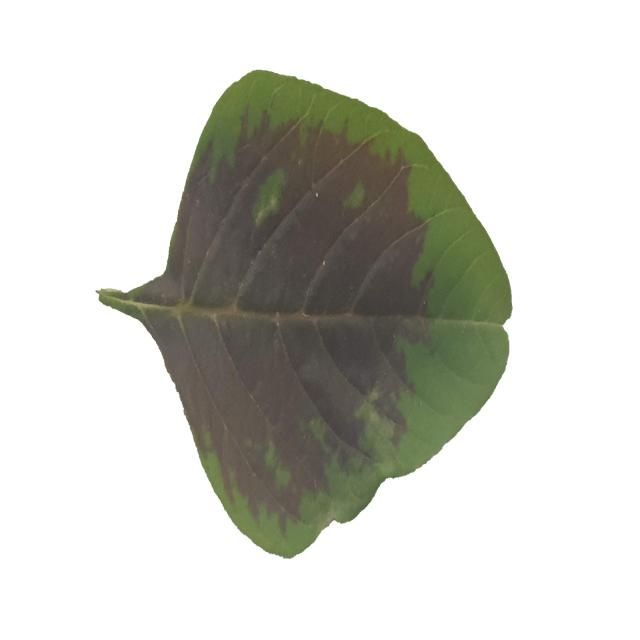Medicinal-Arive Dantu: (99, 66, 513, 555)
